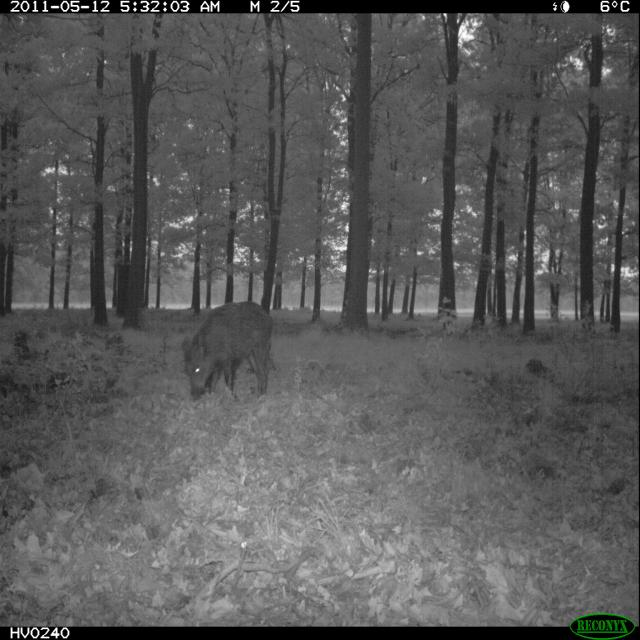boar: (161, 295, 295, 417)
